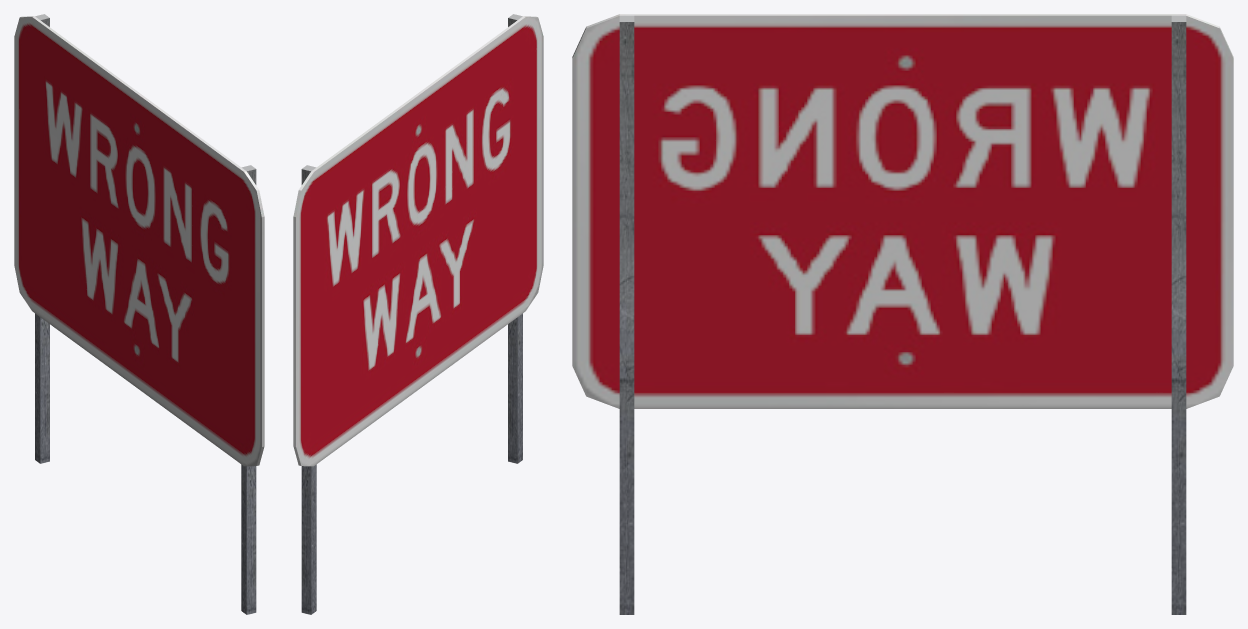
The model's file is sign-wrongway.fbx.
The picture shows the model from 3 angles, left to right: view 1: azimuth 30°, elevation 25°; view 2: azimuth 150°, elevation 25°; view 3: azimuth 270°, elevation 25°; orthographic projection. The views are drawn at different scales.
Parts seen in each view (by area): view 1: Plane.059; view 2: Plane.059; view 3: Plane.059.
Boxes of the visible parts, x1=… form: Plane.059: x1=14, y1=14, x2=264, y2=614; Plane.059: x1=293, y1=14, x2=543, y2=614; Plane.059: x1=572, y1=14, x2=1233, y2=614.
Size of the model in its own units: 8.77 by 301 by 305.
